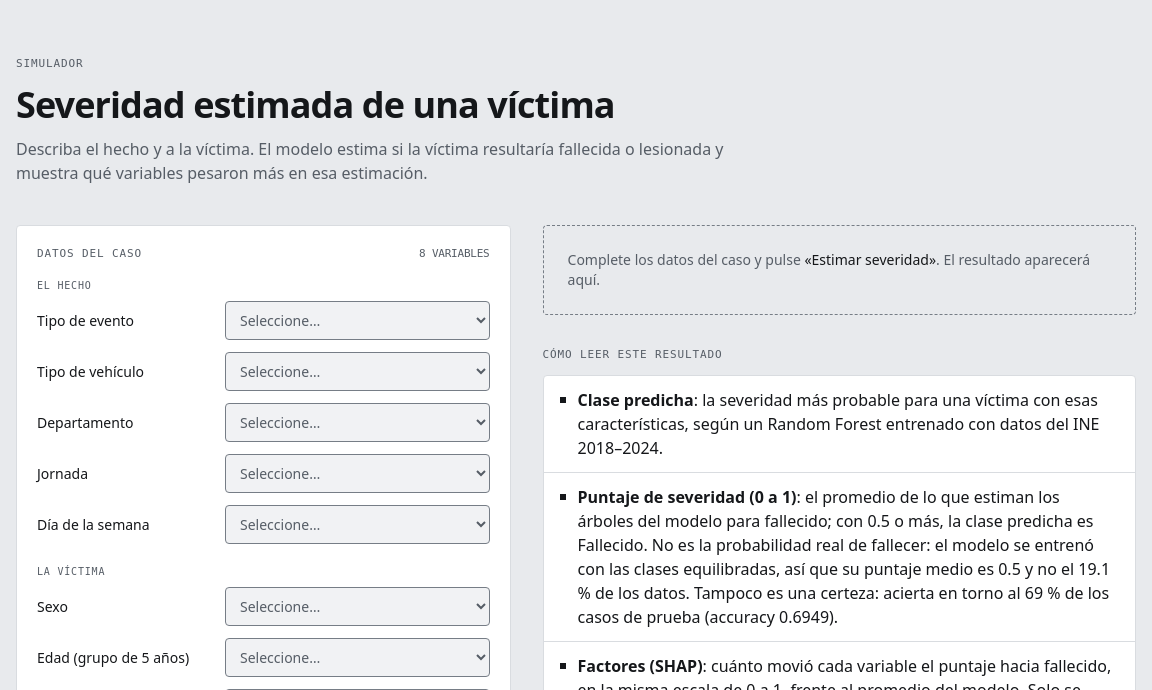
Scenario: Simulador › la edad sugiere "mayor o menor de edad"
Select "5 - 9" in the dropdown labelled "Edad (grupo de 5 años)": (357, 658) [225,638,490,677]
(page scrolled)
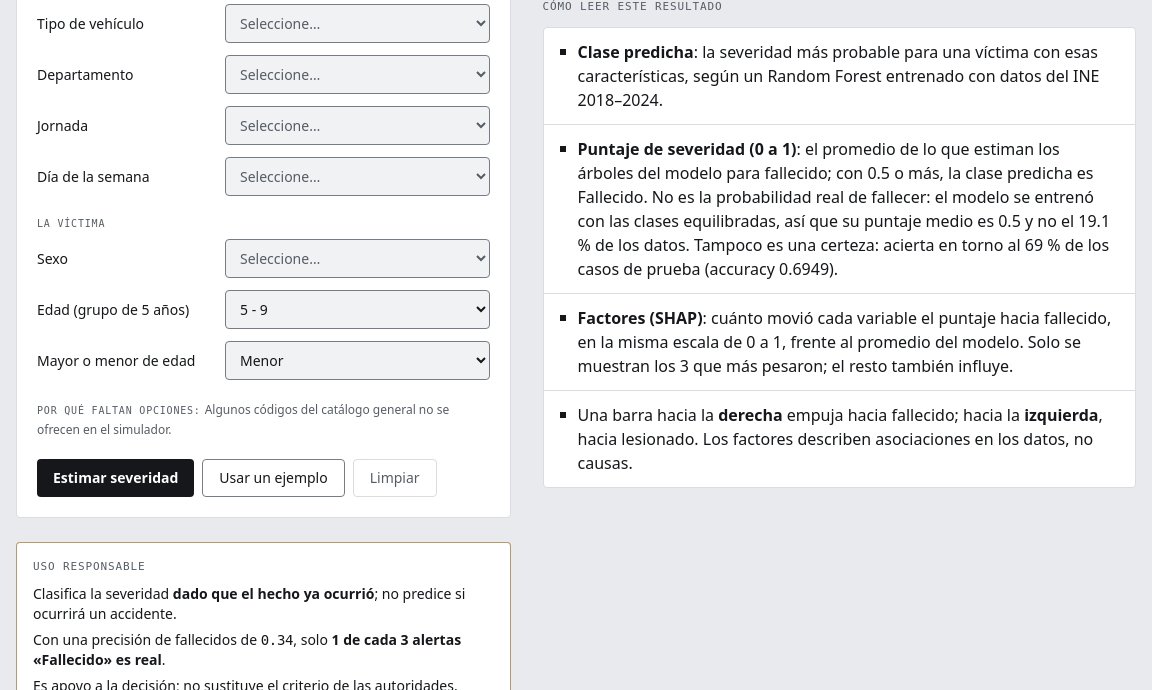
Now the dropdown labelled "Mayor o menor de edad" shows "Menor", box [225,341,490,380]
